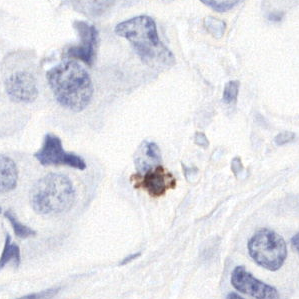Lymphocyte: (137, 168, 172, 196)
